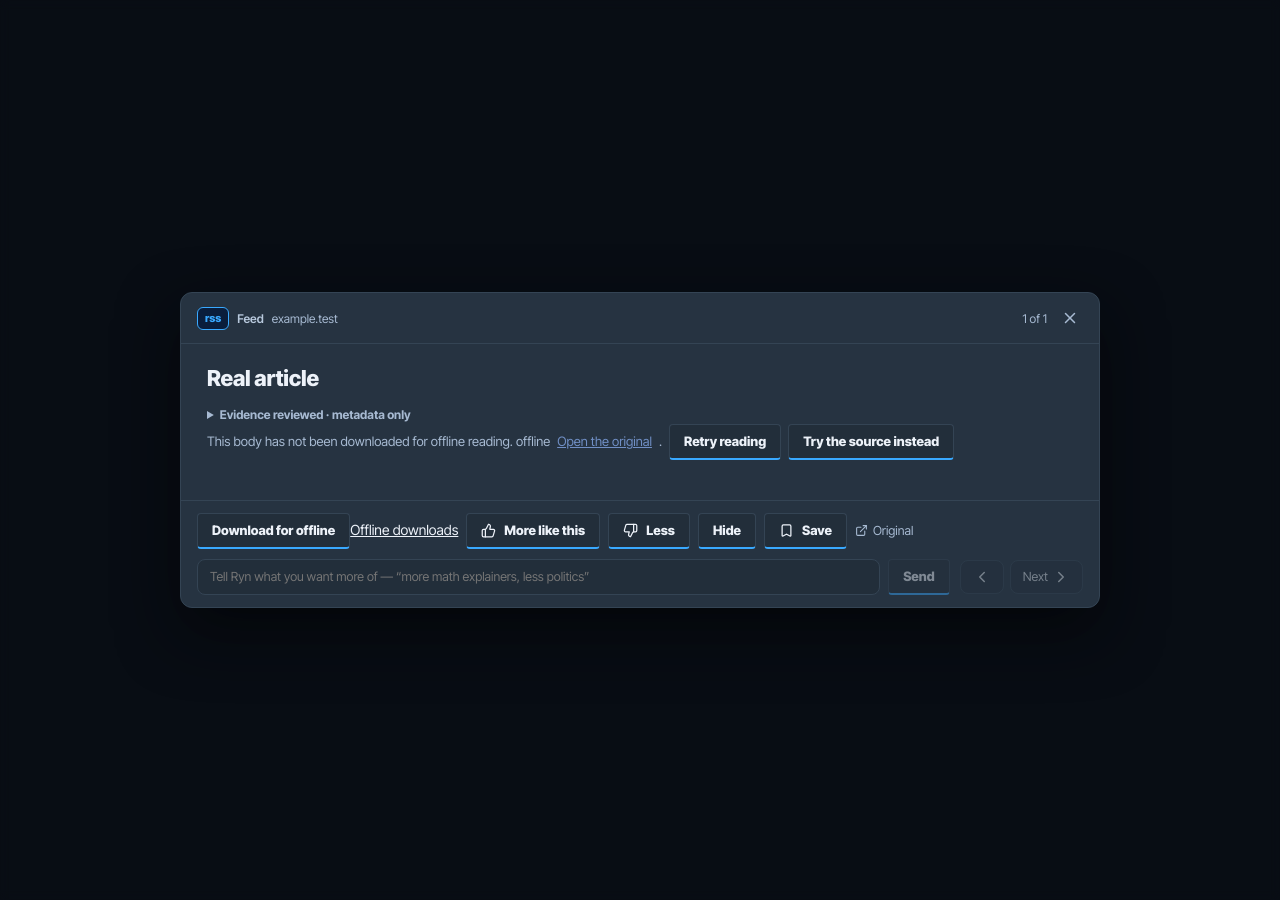
Test: records reading only after the article loads and allows a failed read to recover
Click the button "Retry reading" at (725, 442), box x1=669 y1=424 x2=781 y2=460
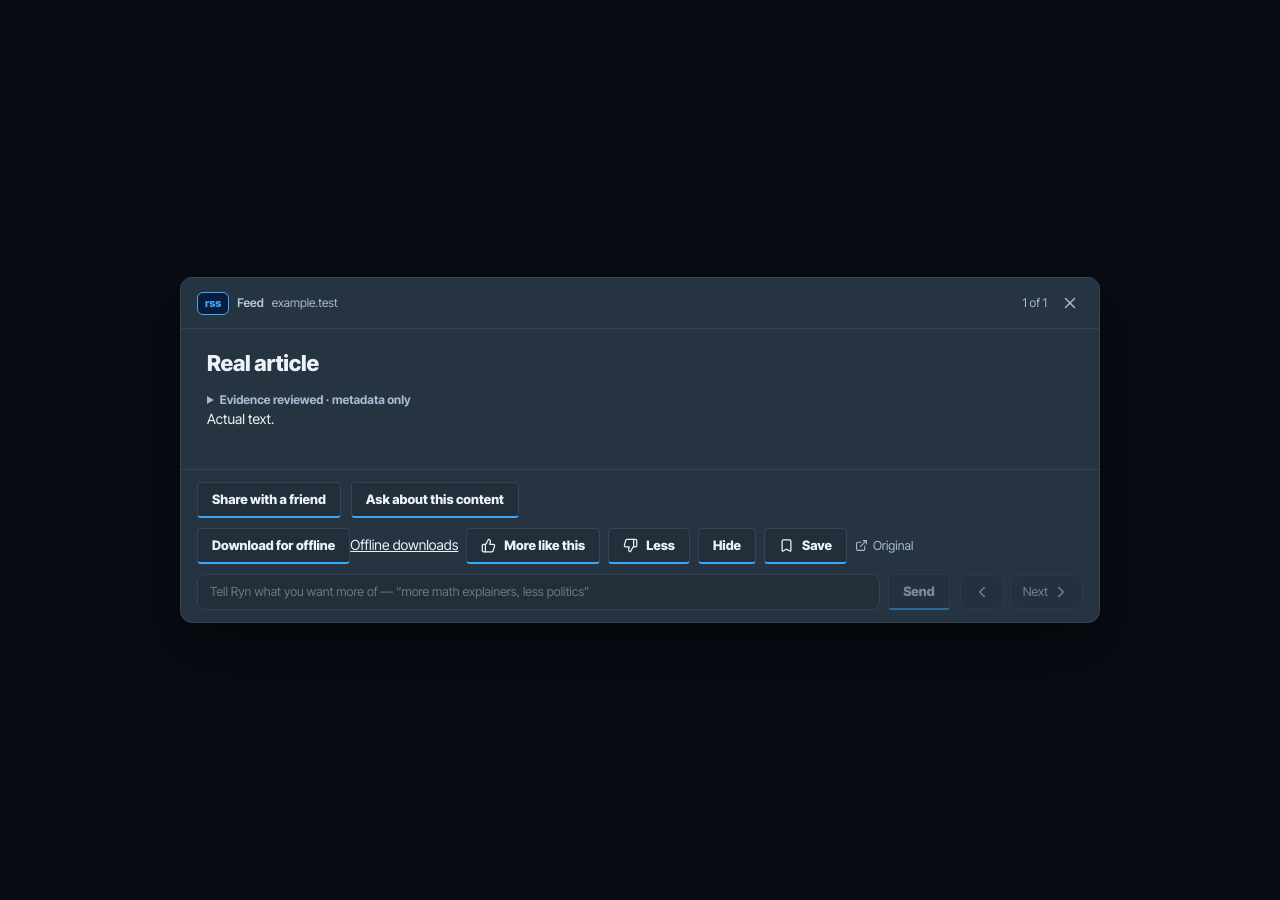
Expected: the text "Actual text." is shown, x1=207 y1=410 x2=274 y2=427
